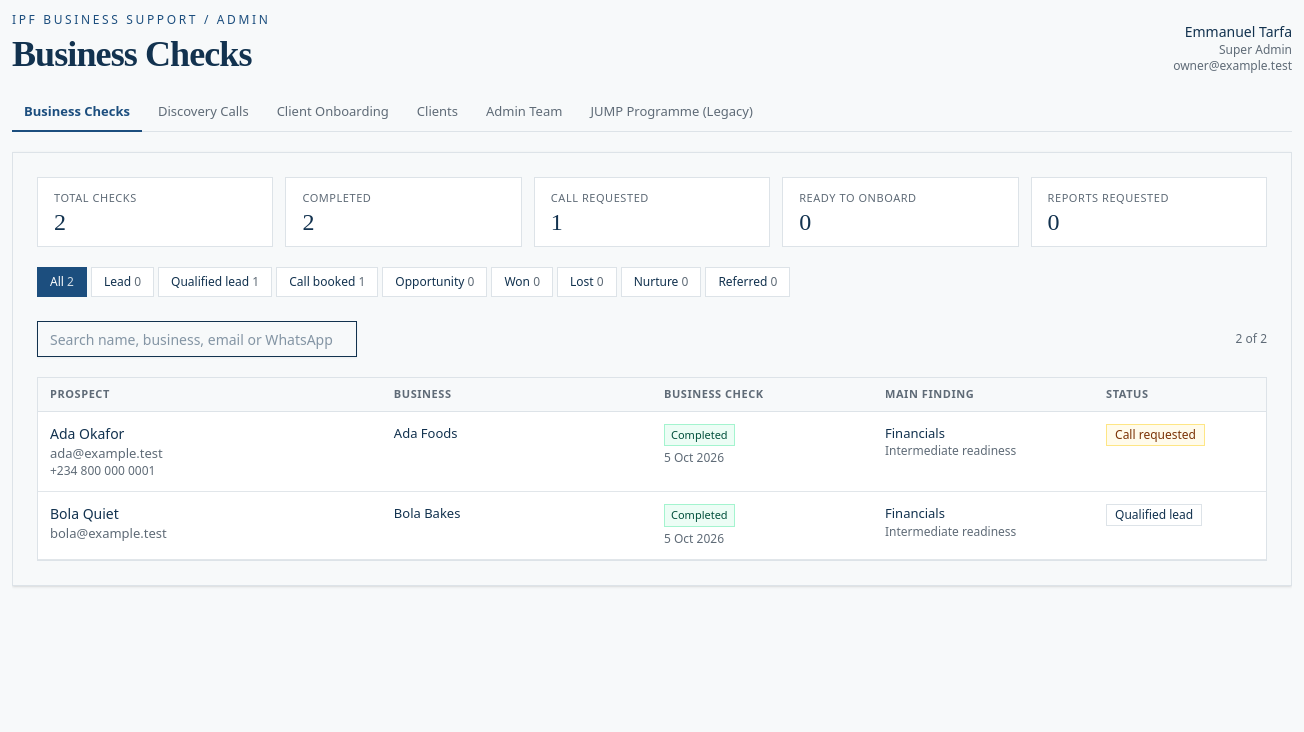
Test: Discovery Calls table › searches and filters by status
Click the button "Discovery Calls".
click(203, 113)  # box [146,94,261,132]
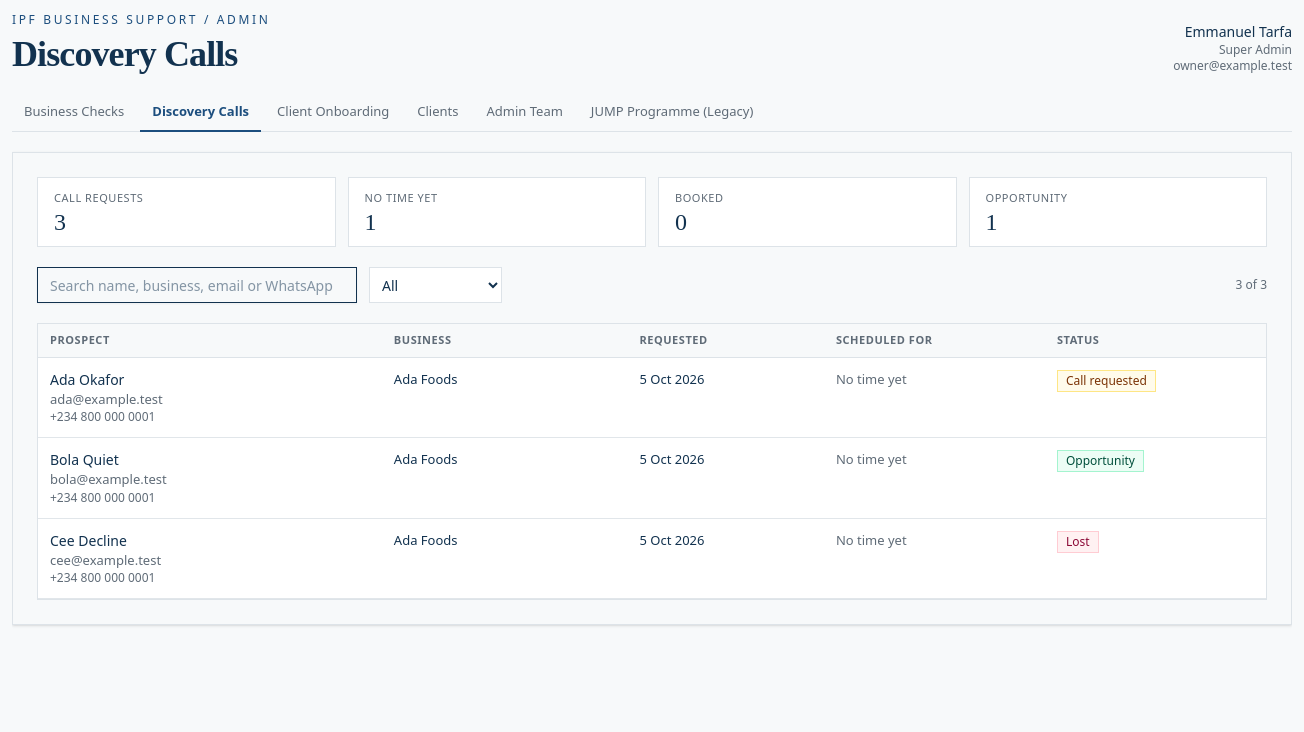
Select "Opportunity" in the dropdown named "Filter by status" at (436, 285), box [369,267,502,303]
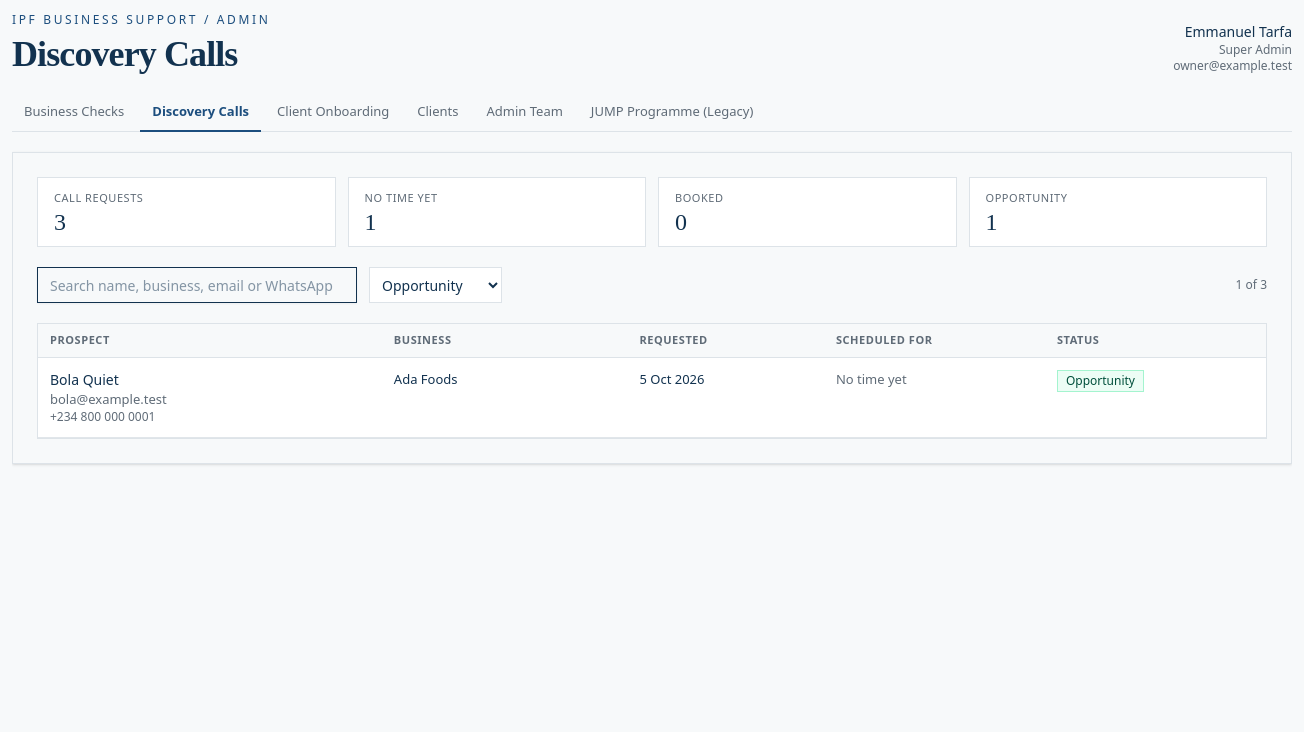
Expected: the text "Bola Quiet" is shown, [50,370,119,388]
Expected: the button "Ada Okafor" is gone
Select "Lost" in the dropdown named "Filter by status" at (436, 285), box [369,267,502,303]
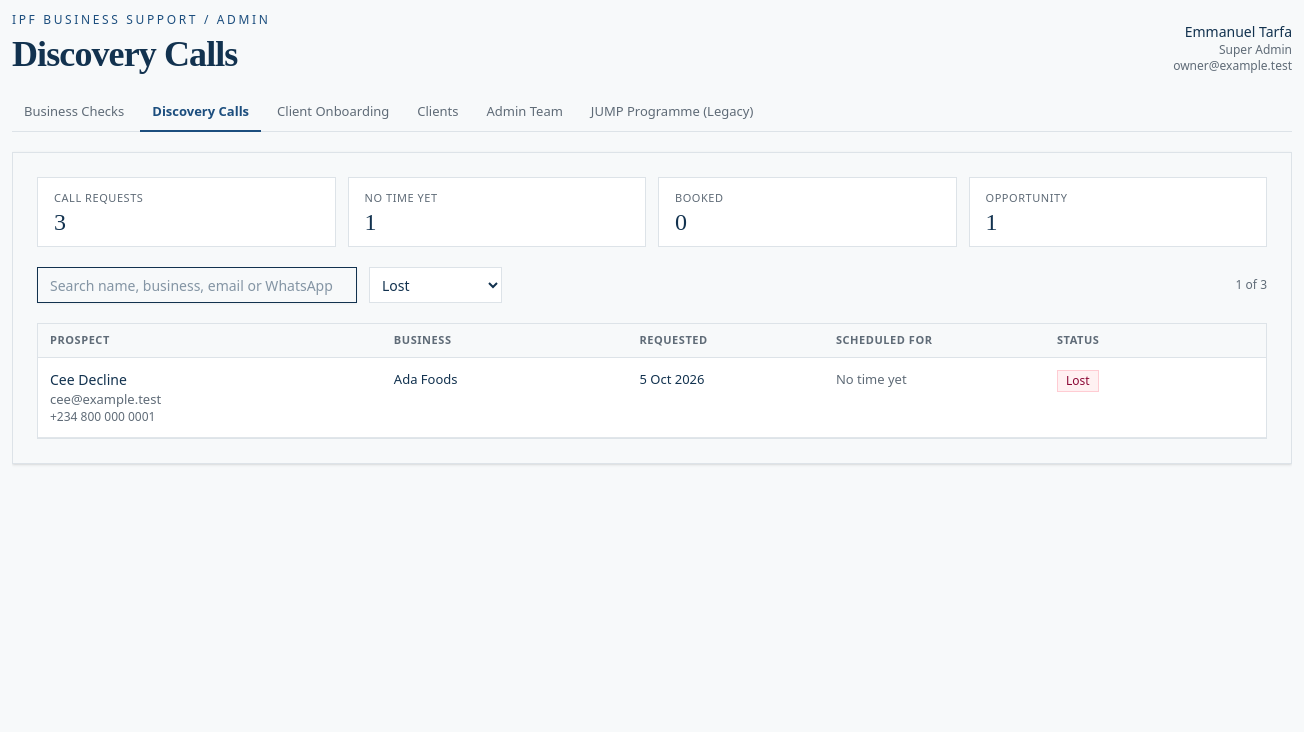
Expected: the text "Cee Decline" is shown, [50,370,127,388]
Expected: the button "Bola Quiet" is gone
Select "All" in the dropdown named "Filter by status" at (436, 285), box [369,267,502,303]
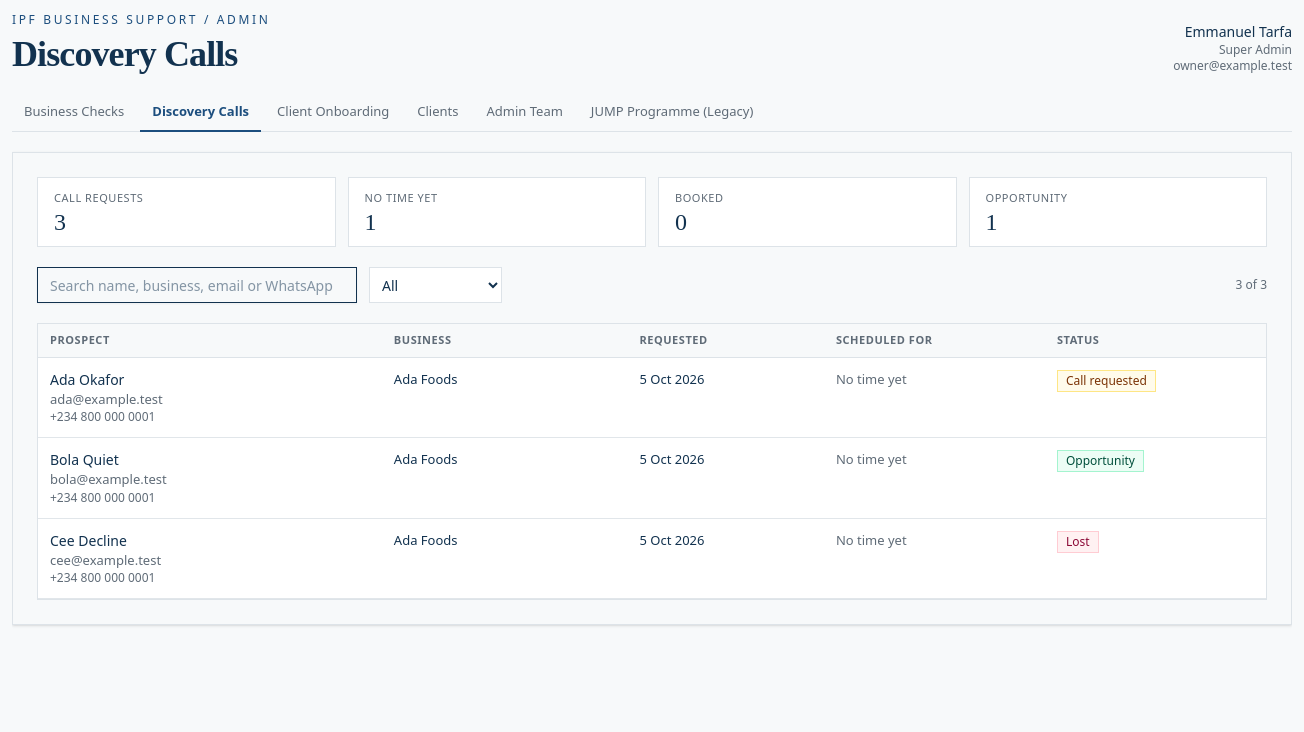
Type "cee@" into the field named "Search discovery calls".
click(197, 285); type("cee@")  # box [37,267,357,303]
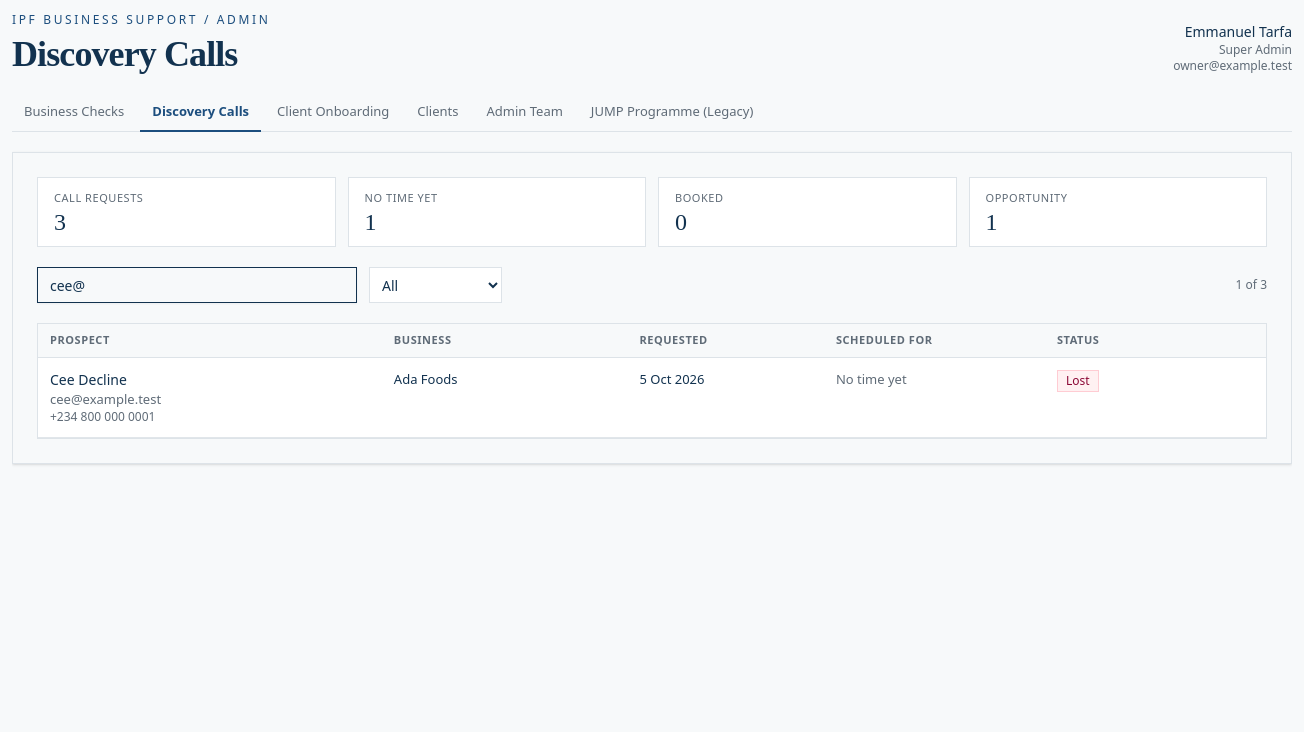
Expected: the text "Cee Decline" is shown, [50,370,127,388]
Expected: the button "Ada Okafor" is gone
